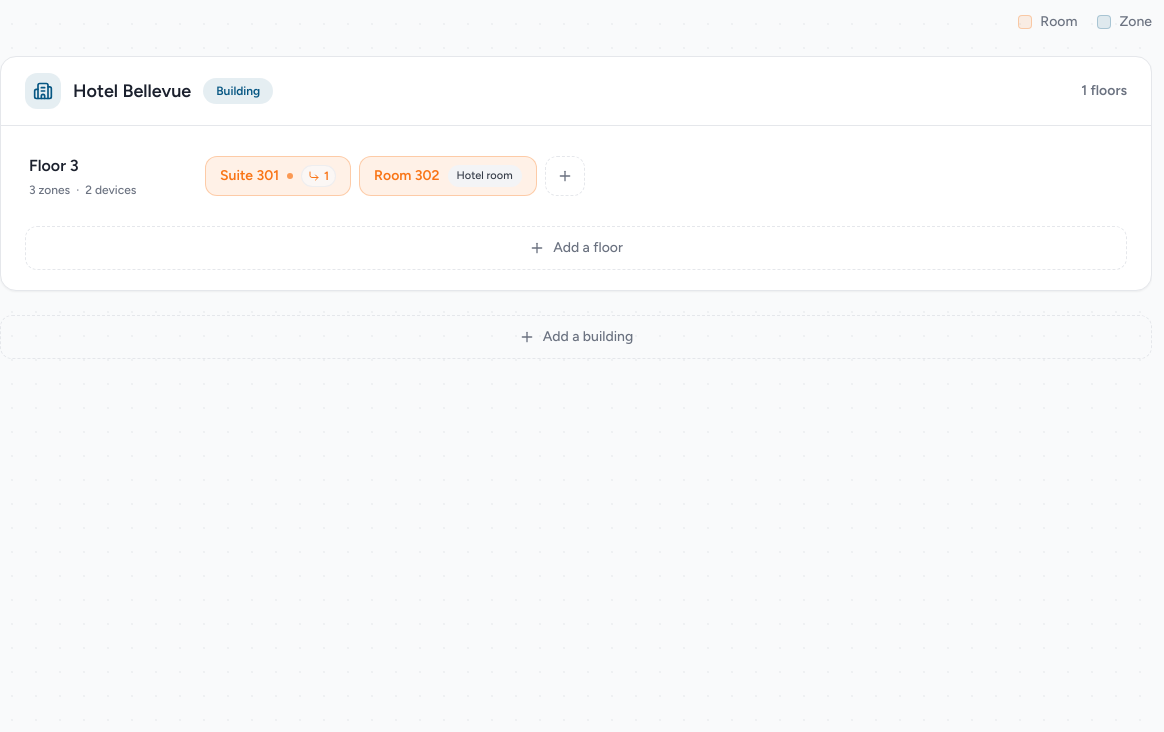
Test: AssetTree zone overview › reveals the sub-zones of a pill on hover
Hover over the text "Suite 301" at (250, 176), box [220,166,279,186]
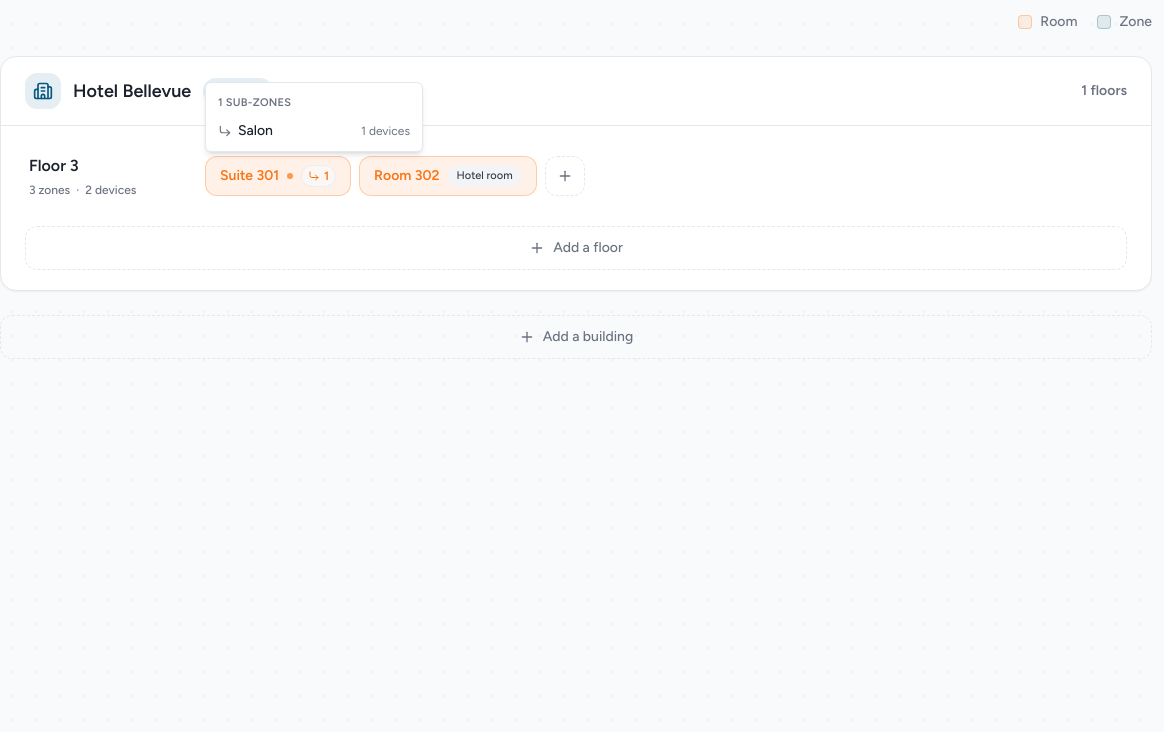
Now the text "Salon" is shown, box [238,121,273,141]
Now the text "1 devices" is shown, box [361,123,410,139]
